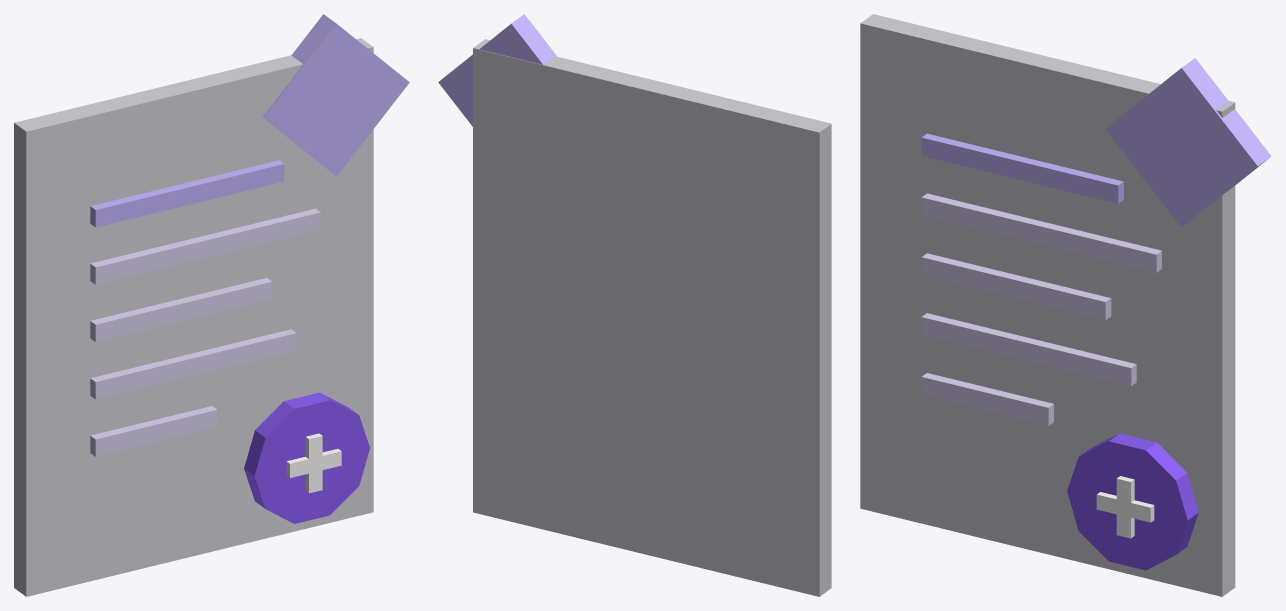
File: order.glb
3 renders of one model, left to right at view 1: azimuth 30°, elevation 25°; view 2: azimuth 150°, elevation 25°; view 3: azimuth 330°, elevation 25°, orthographic. The views are drawn at different scales.
Visible parts, largest first — view 1: order; view 2: order; view 3: order.
Part boxes in pixels (<box>): order: <box>14,14,409,596</box>; order: <box>438,14,831,596</box>; order: <box>860,14,1271,596</box>.
Size of the model in its own units: 1.26 by 1.57 by 0.175.
